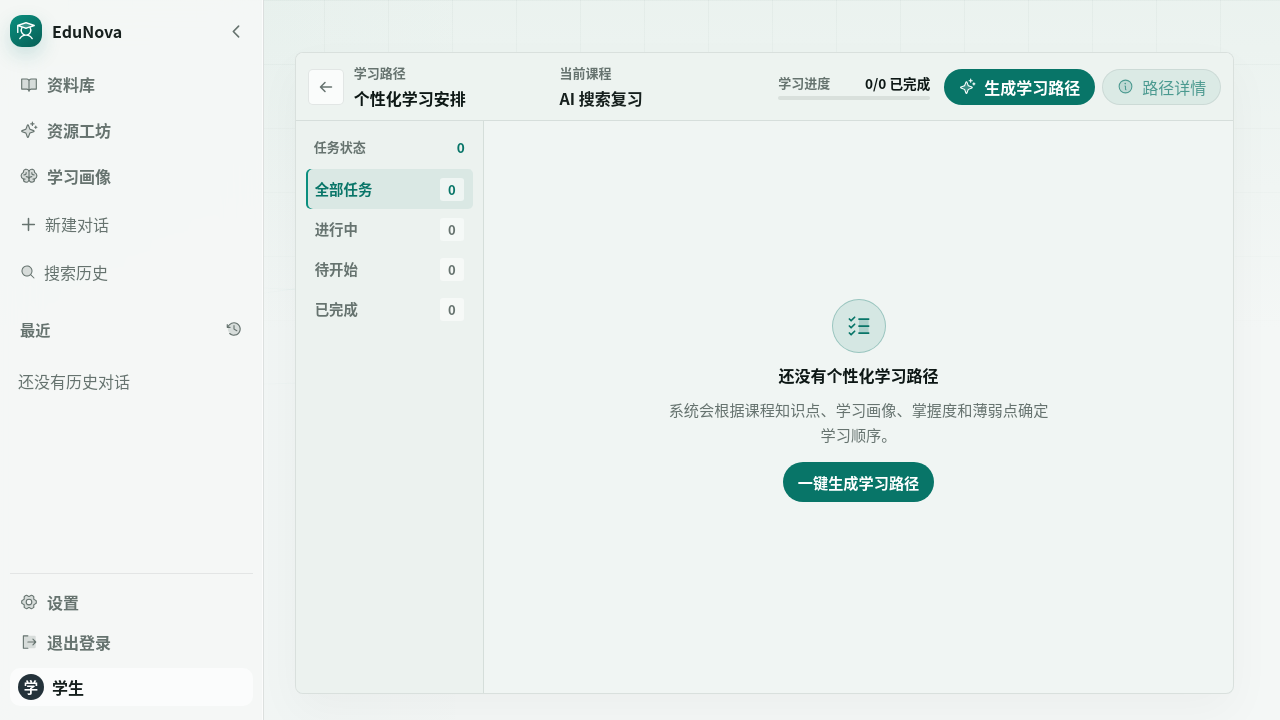
Test: LearningPathPage › queues a draft and displays durable job progress
Expected: the text "还没有个性化学习路径" is shown, [778,363,938,387]
Click the button "一键生成学习路径".
click(859, 482)  # box [783,462,934,502]
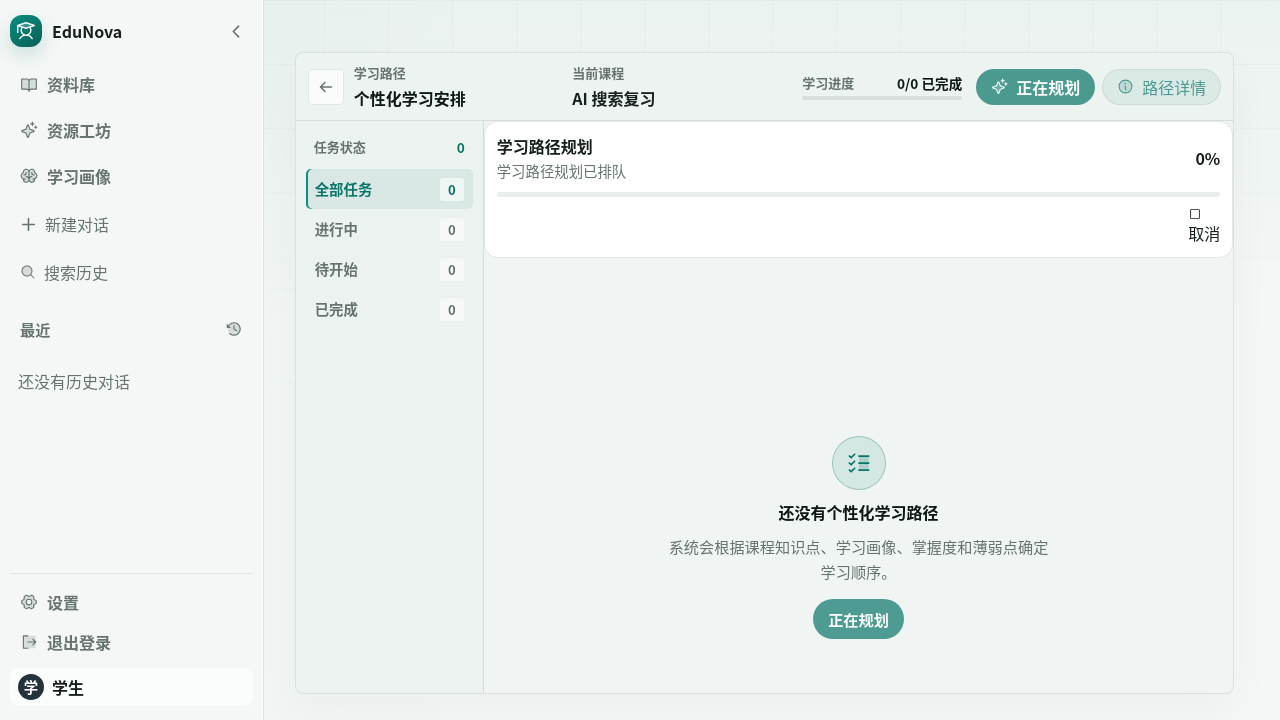
Expected: the text "学习路径规划已排队" is shown, [497,160,626,182]
Expected: the button "取消" is shown, [1188,206,1220,244]
